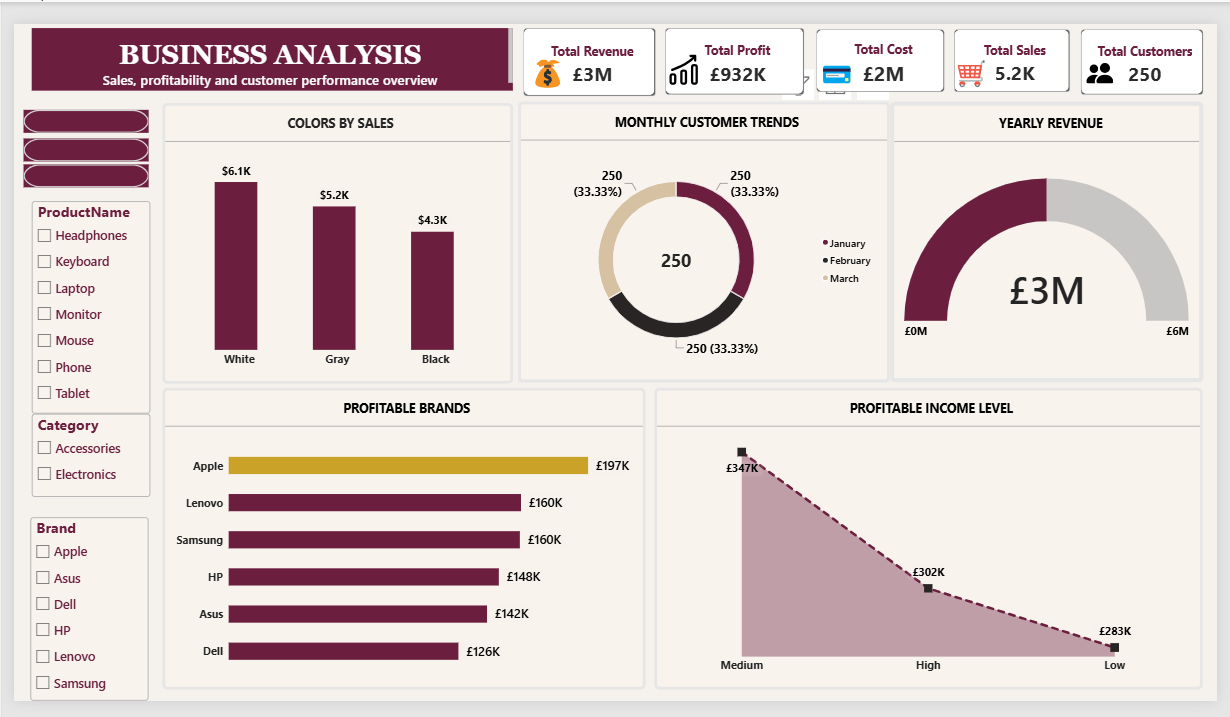

Layout of this report page (visuals, bound fields, positions):
{"tool":"powerbi","page":{"name":"BUSINESS ANALYSIS","canvas":[1920,1080],"ordinal":1},"visuals":[{"type":"cardVisual","fields":{"Data":["Sales.Total Revenue"]},"box":[856.4,8.5,194.7,100],"z":0,"group":"g1"},{"type":"slicer","fields":{"Values":["Products.Brand"]},"box":[26.1,787,188.6,293.2],"z":1000},{"type":"slicer","fields":{"Values":["Products.ProductName"]},"box":[28.3,282.6,189.1,339.1],"z":2000},{"type":"areaChart","title":"PROFITABLE INCOME LEVEL","fields":{"Category":["Customers.IncomeLevel"],"Y":["Sales.Total Profit"]},"box":[1022.7,579.5,875,481.8],"z":3000},{"type":"cardVisual","fields":{"Data":["Sales.Total Profit"]},"box":[1066,8.5,197.8,97.3],"z":8000,"group":"g2"},{"type":"cardVisual","fields":{"Data":["Sales.Total Cost"]},"box":[1280.9,8.5,204.3,100],"z":9000,"group":"g3"},{"type":"cardVisual","fields":{"Data":["Sales.Total Customers"]},"box":[1710.6,8.5,187.2,100],"z":10000,"group":"g5"},{"type":"cardVisual","fields":{"Data":["Sales.Total Sales"]},"box":[1500,8.5,195.7,100],"z":11000,"group":"g4"},{"type":"textbox","box":[27.7,6.4,810.6,100],"z":12000},{"type":"slicer","fields":{"Values":["Products.Category"]},"box":[28.3,621.7,189.1,132.6],"z":13000},{"type":"gauge","title":"YEARLY REVENUE","fields":{"Y":["Sales.Total Revenue"]},"box":[1397.8,123.9,500,447.7],"z":14000},{"type":"clusteredBarChart","title":"PROFITABLE BRANDS","fields":{"Category":["Products.Brand"],"Y":["Sales.Total Profit"]},"box":[236.4,579.5,770.5,481.8],"z":15000},{"type":"clusteredColumnChart","title":"COLORS BY SALES","fields":{"Category":["Products.Color"],"Y":["Sales.Total Units Sold"]},"box":[236.4,125,559.1,447.7],"z":16000},{"type":"donutChart","title":"MONTHLY CUSTOMER TRENDS","fields":{"Category":["DateTable.Month"],"Y":["Sales.Total Customers"]},"box":[804.3,123.9,593.2,447.7],"z":17000},{"type":"image","box":[1719.3,45.5,41.4,58.7],"z":18000,"group":"g5"},{"type":"image","box":[853.2,58.5,54.4,38.3],"z":19000,"group":"g1"},{"type":"image","box":[1504.6,54.2,48.4,50],"z":20000,"group":"g4"},{"type":"image","box":[1066,21.5,52.4,93.4],"z":20001,"group":"g2"},{"type":"image","box":[1280.9,47.6,65.2,50],"z":20002,"group":"g3"},{"type":"group","id":"g1","title":"Group 1","box":[853.2,8.5,197.9,100],"z":20003},{"type":"group","id":"g2","title":"Group 2","box":[1066,8.5,197.9,106.4],"z":20004},{"type":"group","id":"g3","title":"Group 3","box":[1280.9,8.5,204.3,100],"z":20005},{"type":"group","id":"g4","title":"Group 4","box":[1500,8.5,195.7,100],"z":20006},{"type":"group","id":"g5","title":"Group 5","box":[1710.6,8.5,187.2,100],"z":20007},{"type":"actionButton","box":[14.3,136.6,199.8,36.7],"z":20008},{"type":"actionButton","box":[14.3,183.5,199.8,36.7],"z":20009},{"type":"actionButton","box":[14.3,224.3,199.8,36.7],"z":20010}]}

Visuals, with their boxes on the page's 1920x1080 design canvas (x1, y1, x2, y2). These are canvas units, not pixel positions in the 1230x717 screenshot, which may show the page scaled, cropped or inside an application window:
cardVisual - Sales.Total Revenue: Rect(856, 8, 1051, 108)
slicer - Products.Brand: Rect(26, 787, 215, 1080)
slicer - Products.ProductName: Rect(28, 283, 217, 622)
"PROFITABLE INCOME LEVEL" areaChart: Rect(1023, 580, 1898, 1061)
cardVisual - Sales.Total Profit: Rect(1066, 8, 1264, 106)
cardVisual - Sales.Total Cost: Rect(1281, 8, 1485, 108)
cardVisual - Sales.Total Customers: Rect(1711, 8, 1898, 108)
cardVisual - Sales.Total Sales: Rect(1500, 8, 1696, 108)
textbox: Rect(28, 6, 838, 106)
slicer - Products.Category: Rect(28, 622, 217, 754)
"YEARLY REVENUE" gauge: Rect(1398, 124, 1898, 572)
"PROFITABLE BRANDS" clusteredBarChart: Rect(236, 580, 1007, 1061)
"COLORS BY SALES" clusteredColumnChart: Rect(236, 125, 796, 573)
"MONTHLY CUSTOMER TRENDS" donutChart: Rect(804, 124, 1398, 572)
image: Rect(1719, 46, 1761, 104)
image: Rect(853, 58, 908, 97)
image: Rect(1505, 54, 1553, 104)
image: Rect(1066, 22, 1118, 115)
image: Rect(1281, 48, 1346, 98)
"Group 1" group: Rect(853, 8, 1051, 108)
"Group 2" group: Rect(1066, 8, 1264, 115)
"Group 3" group: Rect(1281, 8, 1485, 108)
"Group 4" group: Rect(1500, 8, 1696, 108)
"Group 5" group: Rect(1711, 8, 1898, 108)
actionButton: Rect(14, 137, 214, 173)
actionButton: Rect(14, 184, 214, 220)
actionButton: Rect(14, 224, 214, 261)
